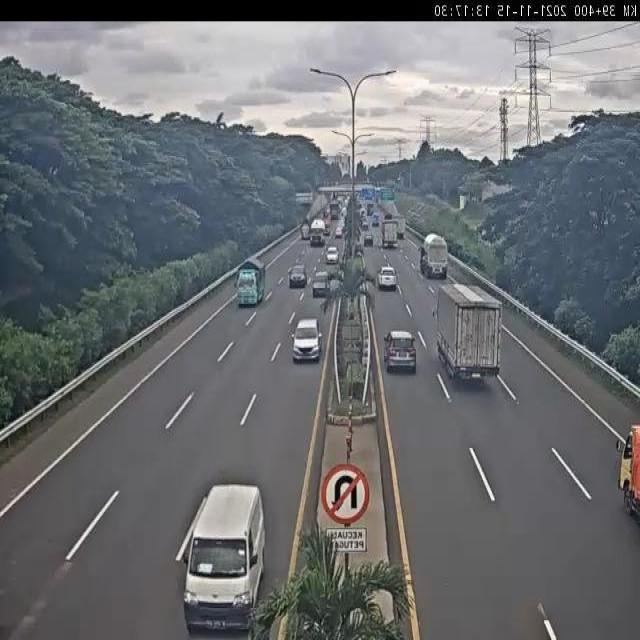Car: (383, 329, 416, 374), (291, 317, 322, 363), (287, 262, 312, 290), (377, 265, 397, 290), (312, 270, 330, 297), (326, 246, 339, 264), (300, 223, 310, 240), (364, 232, 374, 246), (322, 220, 330, 236), (335, 225, 344, 238), (372, 214, 379, 226)
Truck: (435, 281, 506, 386), (234, 256, 266, 308), (418, 232, 452, 278), (309, 216, 327, 249), (381, 222, 399, 250)
Van: (185, 474, 269, 635)
